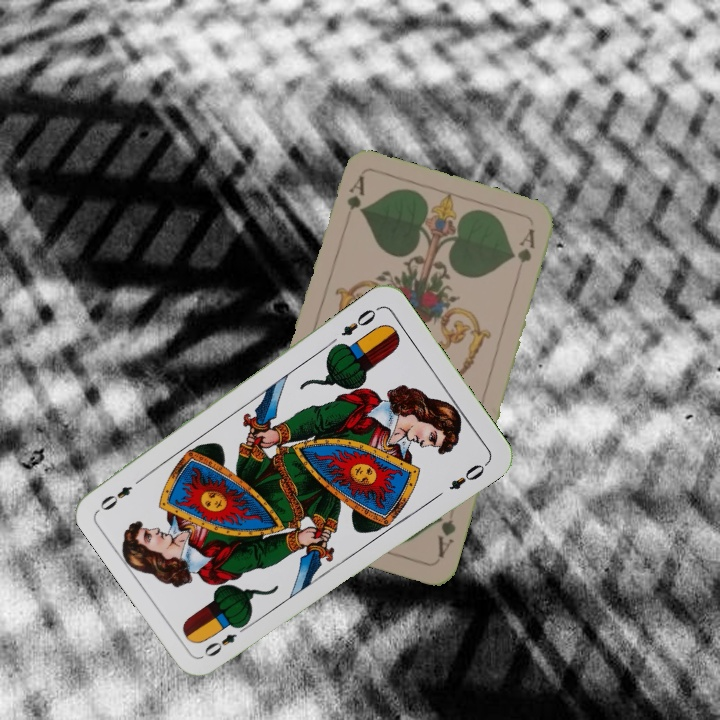EO: (199, 620, 252, 660), (337, 302, 382, 339)
GA: (340, 173, 367, 230), (433, 512, 458, 560)
